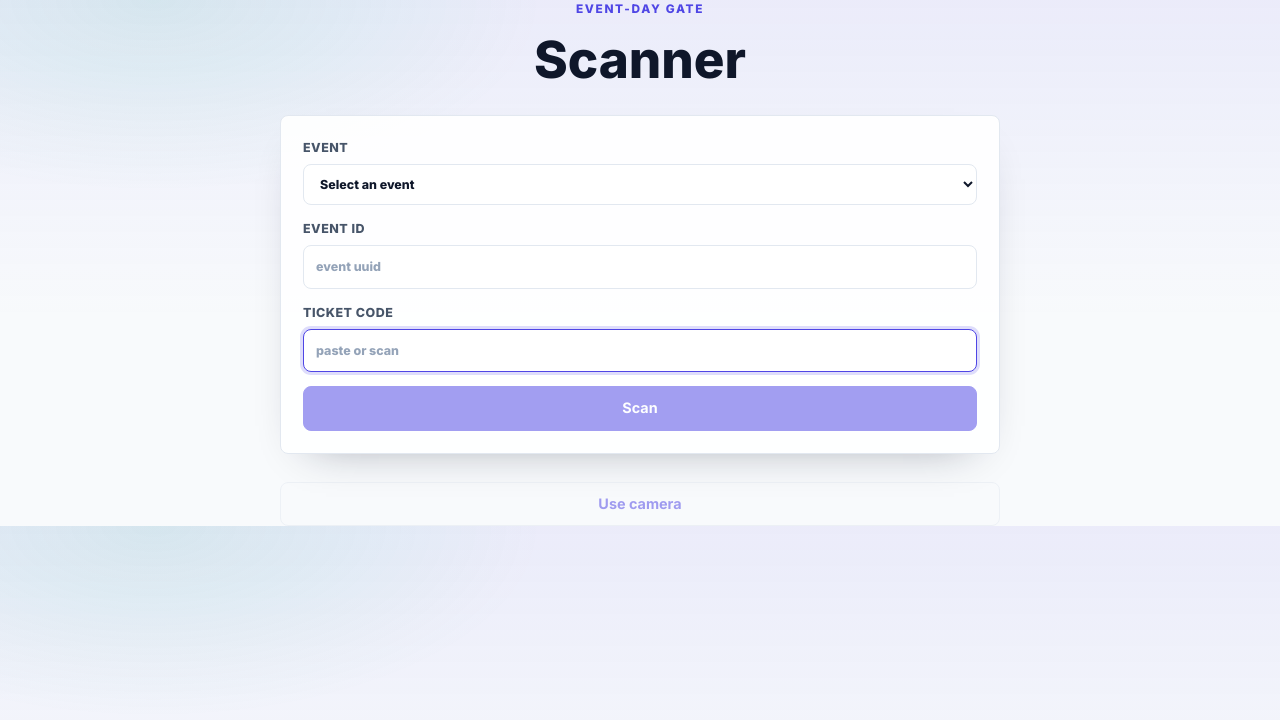
Scenario: Scanner › scans via the camera and admits
Select "Gate Night — Hall" in the dropdown labelled "Event" at (640, 184), box [303,164,977,205]
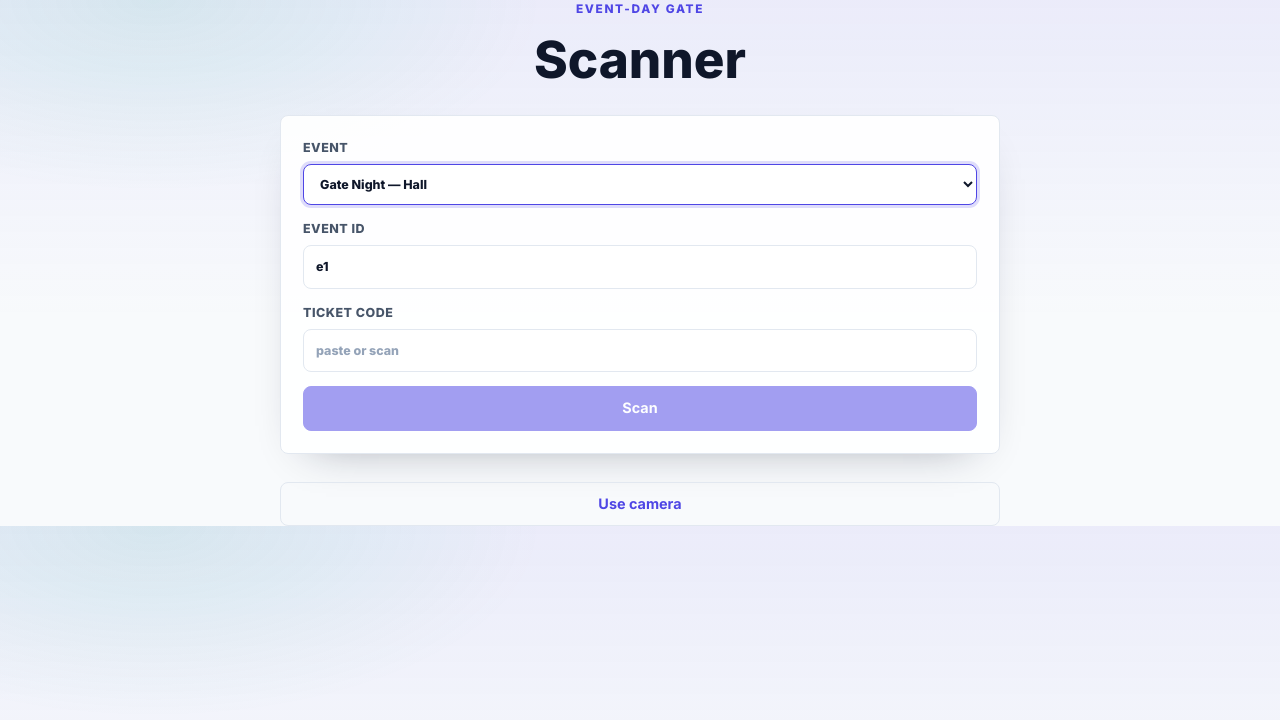
Click the button "Use camera".
click(640, 504)  # box [280,482,1000,526]
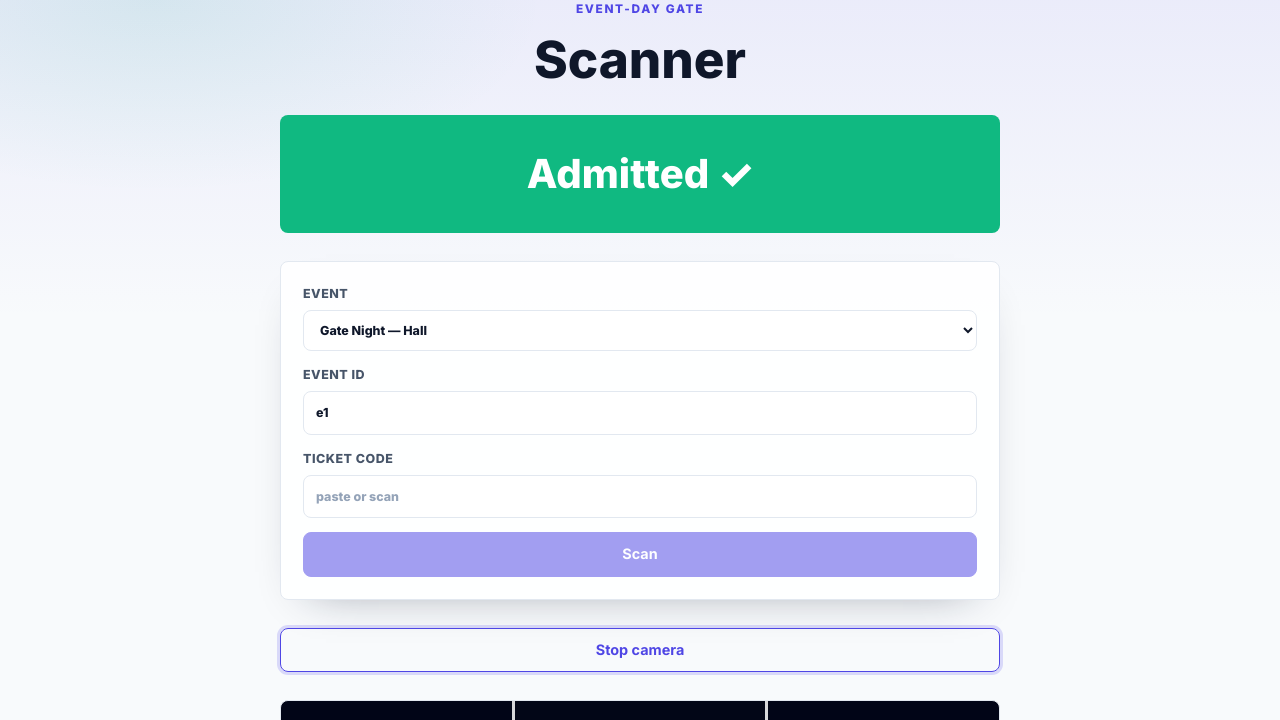
Now the text "Admitted ✓" is shown, box [280,115,1000,233]
